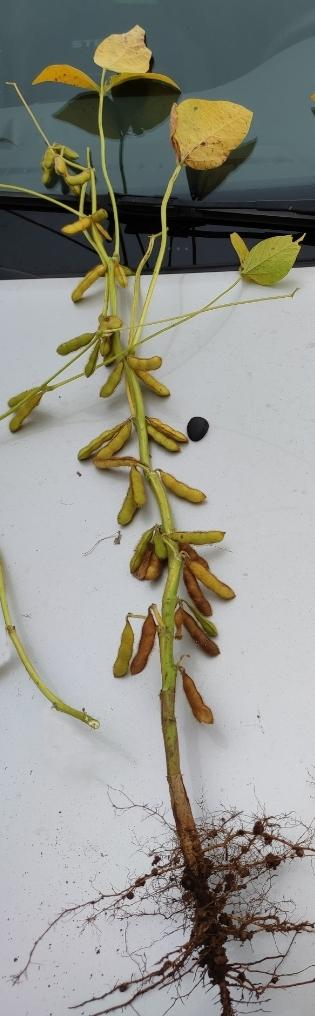soja: (73, 400, 128, 461), (181, 555, 248, 602), (109, 471, 153, 539), (181, 672, 229, 734), (92, 414, 136, 474), (171, 616, 221, 661), (104, 622, 140, 684), (178, 568, 218, 622), (131, 616, 164, 680), (160, 468, 207, 512), (175, 600, 227, 637), (142, 410, 197, 443), (169, 517, 222, 550), (125, 527, 159, 576), (10, 398, 47, 436), (73, 270, 107, 311), (139, 426, 182, 457), (96, 362, 131, 399), (53, 327, 96, 356), (136, 374, 178, 402), (128, 462, 152, 507), (107, 260, 138, 294), (77, 346, 103, 382), (64, 172, 105, 194), (9, 382, 45, 407), (59, 217, 95, 241), (142, 542, 164, 580), (121, 355, 165, 373), (31, 140, 56, 166), (58, 137, 85, 161), (150, 530, 167, 563), (99, 339, 118, 356), (38, 171, 53, 188)
